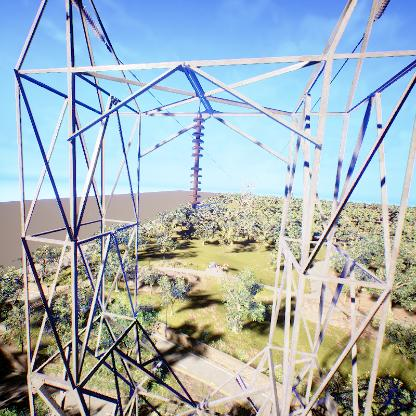insulator: (188, 116, 207, 208)
